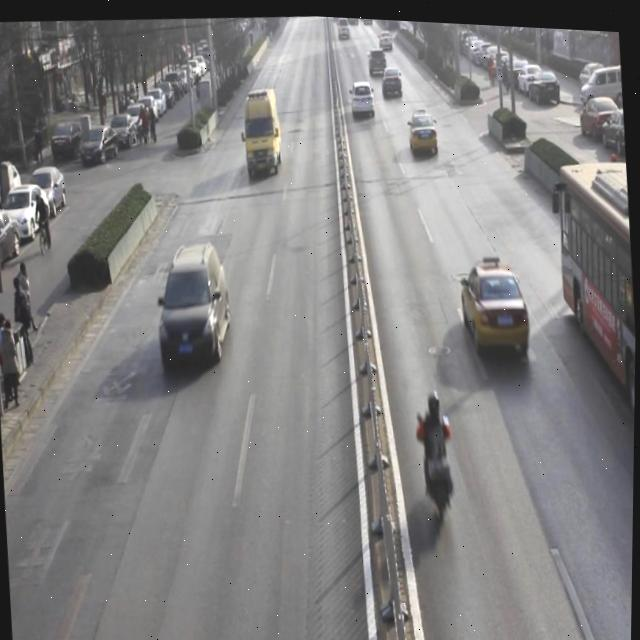car: (156, 238, 238, 382), (457, 250, 536, 363), (405, 104, 441, 160), (349, 75, 377, 119), (366, 41, 390, 77), (381, 62, 405, 97)
truck: (241, 84, 285, 179)
van: (552, 151, 639, 425)
